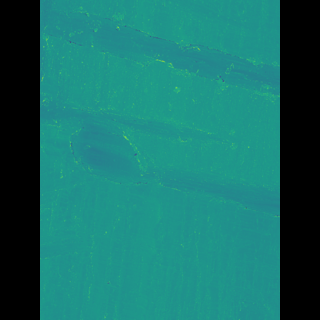Loch: (69, 73, 249, 319), (70, 0, 249, 112)
